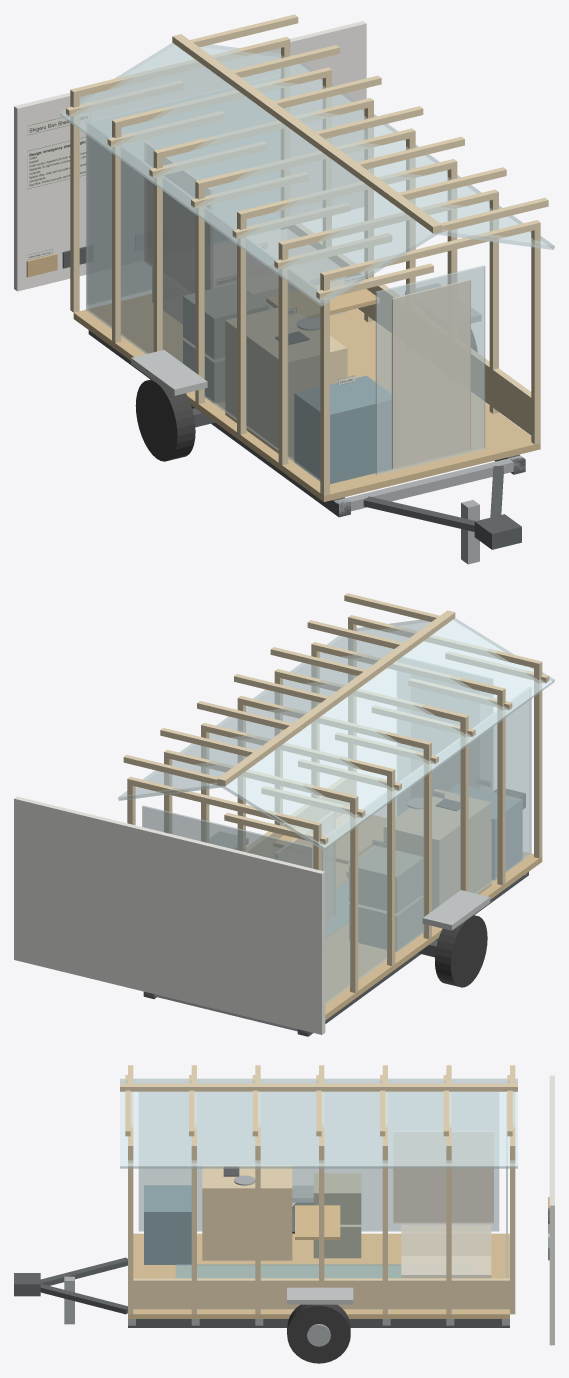
Rendered from shigeru-ban-shelter-trailer.glb.
3 views of the same model, one above another, from view 1: azimuth 30°, elevation 25°; view 2: azimuth 150°, elevation 25°; view 3: azimuth 270°, elevation 25° (orthographic). The views are drawn at different scales.
Parts seen in each view (by area): view 1: left polycarbonate gable roof panel, left translucent wall panels, Shigeru Ban Shelter Trailer label board backing, rear translucent wall panel, 6x12 plywood trailer deck.002, canvas roll-up entry curtain, right polycarbonate gable roof panel, crate kitchenette module, water and battery crate utility zone, front translucent removable door panel, canvas privacy partition at cot, replaceable sleeping cot module (+48 smaller); view 2: Shigeru Ban Shelter Trailer label board backing, left polycarbonate gable roof panel, left translucent wall panels, right polycarbonate gable roof panel, crate kitchenette module, 6x12 plywood trailer deck.002, rear translucent wall panel, simple ridge cap, stacked storage crate 2, left trailer wheel.001, front translucent removable door panel, stacked storage crate 1 (+40 smaller); view 3: right polycarbonate gable roof panel, left translucent wall panels, cutaway side removable sill rail, 6x12 plywood trailer deck.002, canvas privacy partition at cot, crate kitchenette module, replaceable sleeping cot module, water and battery crate utility zone, simple ridge cap, central movement path - keep clear.002, right trailer wheel.001, right steel frame rail.001 (+18 smaller).
Part boxes in pixels (box(x1,y1,x2,y2)): left polycarbonate gable roof panel: box(59, 43, 438, 306); left translucent wall panels: box(86, 121, 320, 480); Shigeru Ban Shelter Trailer label board backing: box(14, 21, 366, 291); rear translucent wall panel: box(87, 75, 280, 304); 6x12 plywood trailer deck.002: box(73, 294, 540, 501); canvas roll-up entry curtain: box(391, 279, 470, 469); right polycarbonate gable roof panel: box(199, 44, 554, 249); crate kitchenette module: box(225, 305, 347, 456); water and battery crate utility zone: box(294, 375, 391, 484); front translucent removable door panel: box(375, 265, 485, 475); canvas privacy partition at cot: box(144, 141, 212, 293); replaceable sleeping cot module: box(152, 228, 346, 324); Shigeru Ban Shelter Trailer label board backing: box(14, 796, 325, 1034); left polycarbonate gable roof panel: box(220, 618, 554, 850); left translucent wall panels: box(321, 687, 531, 1004); right polycarbonate gable roof panel: box(118, 619, 430, 800); crate kitchenette module: box(384, 789, 491, 910); 6x12 plywood trailer deck.002: box(325, 814, 542, 1020); rear translucent wall panel: box(142, 805, 313, 868); simple ridge cap: box(217, 610, 455, 785); stacked storage crate 2: box(349, 846, 423, 912); left trailer wheel.001: box(435, 915, 487, 987); front translucent removable door panel: box(397, 657, 492, 815); stacked storage crate 1: box(349, 895, 423, 951); right polycarbonate gable roof panel: box(120, 1091, 517, 1168); left translucent wall panels: box(138, 1092, 499, 1231); cutaway side removable sill rail: box(128, 1278, 509, 1309); 6x12 plywood trailer deck.002: box(128, 1233, 509, 1318); canvas privacy partition at cot: box(393, 1131, 493, 1223); crate kitchenette module: box(202, 1165, 292, 1260); replaceable sleeping cot module: box(401, 1224, 491, 1278); water and battery crate utility zone: box(144, 1185, 191, 1264); simple ridge cap: box(120, 1083, 517, 1091); central movement path - keep clear.002: box(175, 1264, 401, 1278); right trailer wheel.001: box(287, 1304, 350, 1363); right steel frame rail.001: box(128, 1319, 509, 1327).
Size of the model in its own units: 3.07 by 2.5 by 5.18.
23 materials, 9 textured.
